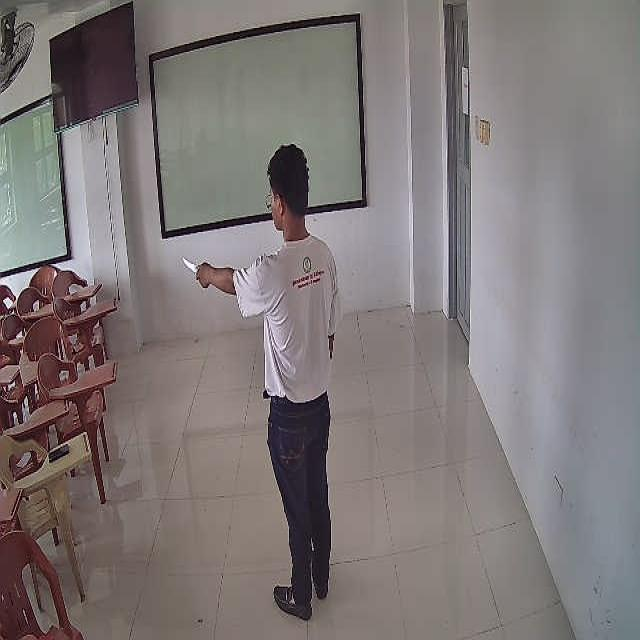knife: (181, 256, 199, 273)
